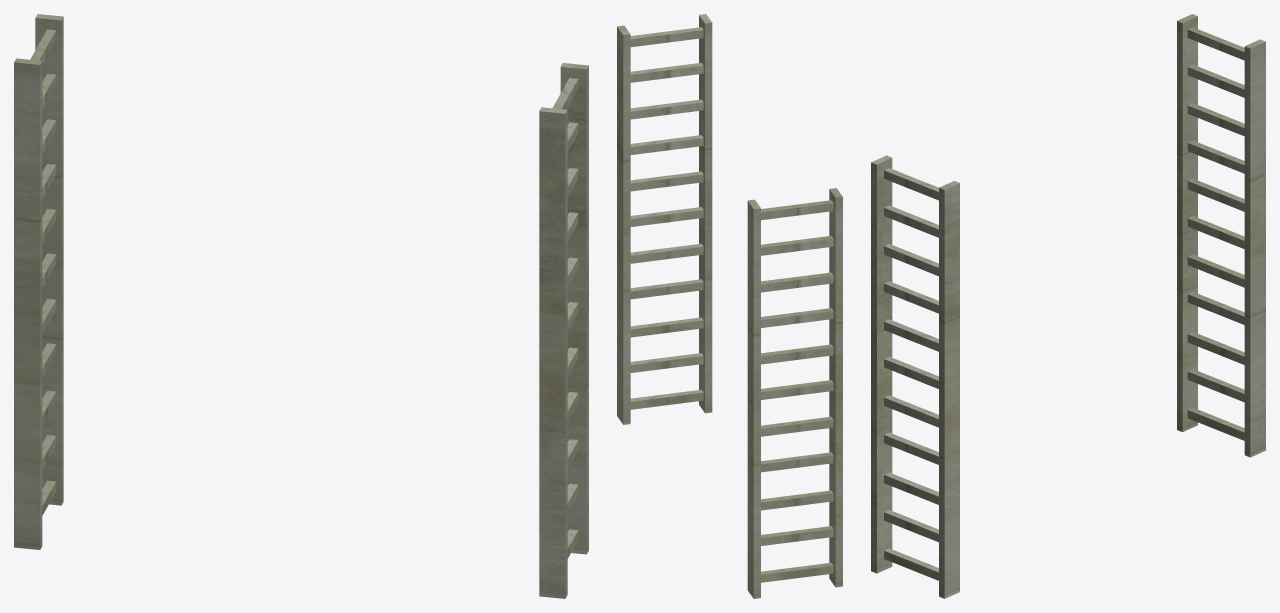
File: SM_LDFest_20_Ladder.fbx
The picture shows the model from 3 angles, left to right: view 1: azimuth 30°, elevation 25°; view 2: azimuth 150°, elevation 25°; view 3: azimuth 270°, elevation 25°; orthographic projection. The views are drawn at different scales.
Parts seen in each view (by area): view 1: SM_LDFest_20_Ladder; view 2: SM_LDFest_20_Ladder; view 3: SM_LDFest_20_Ladder.
Part boxes in pixels (box(x1,y1,x2,y2)): SM_LDFest_20_Ladder: box(14, 14, 588, 598); SM_LDFest_20_Ladder: box(617, 14, 842, 598); SM_LDFest_20_Ladder: box(871, 14, 1265, 598).
Bounding box in the file's own units: 587 × 636 × 556.
